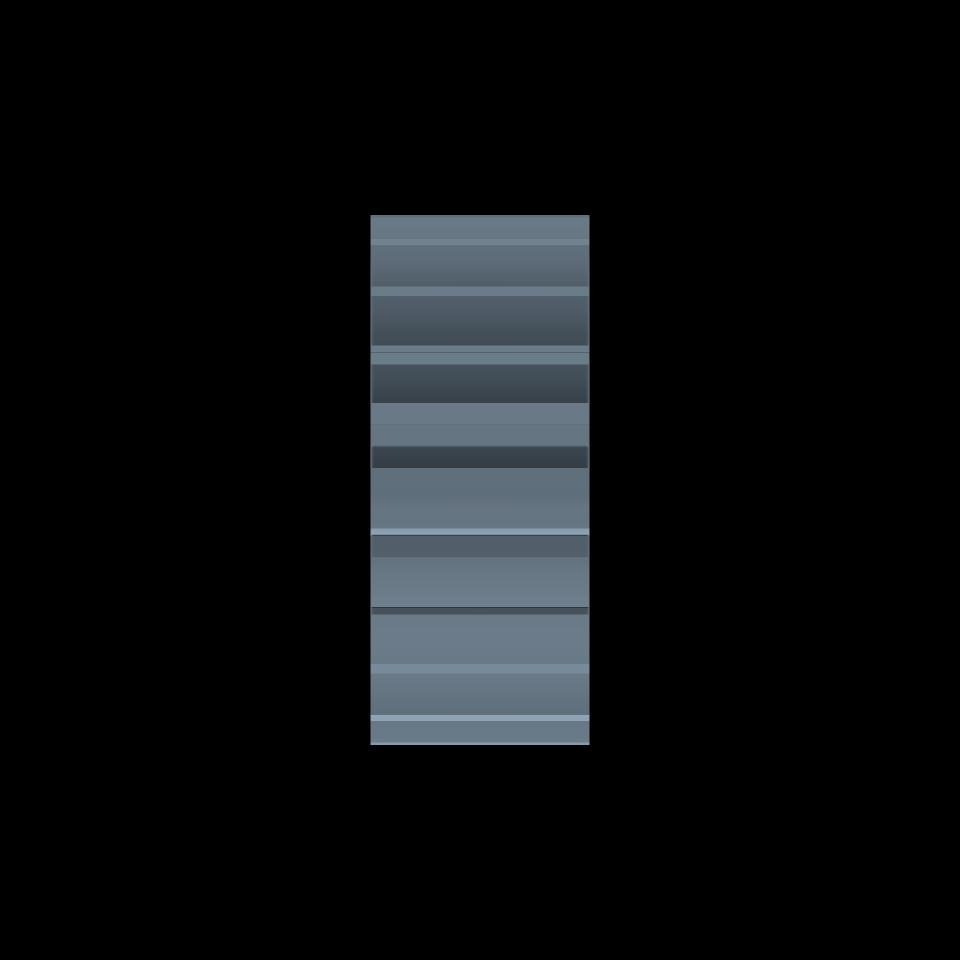Straight: (371, 214, 588, 743)
